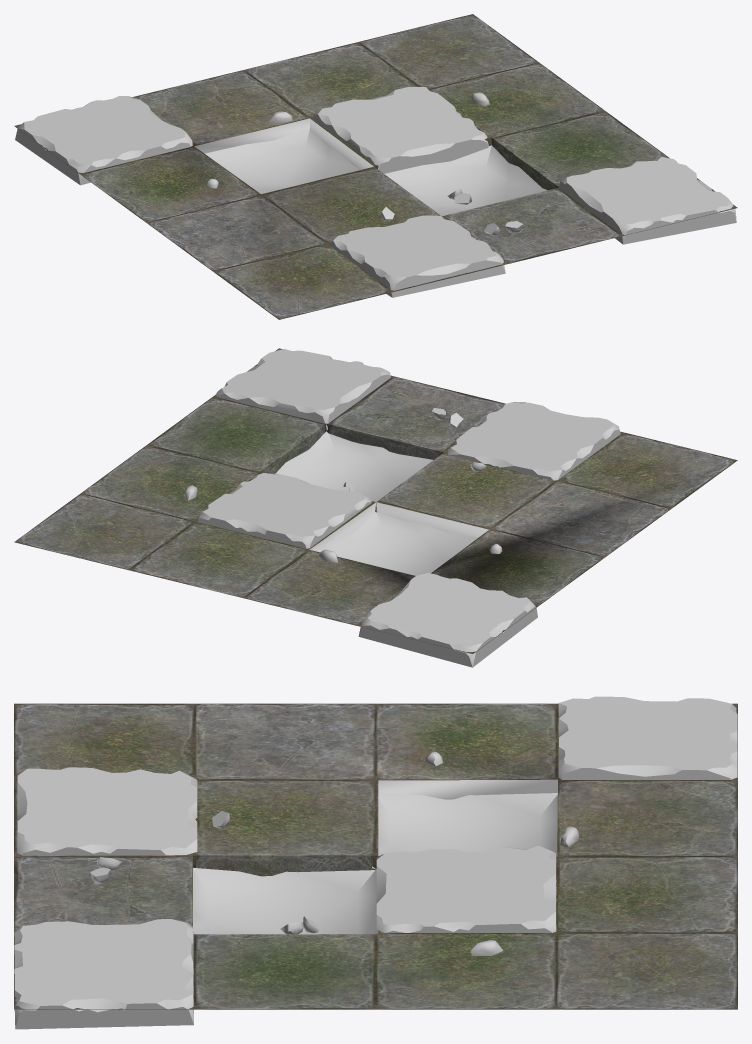
The model's file is Floor_Lvl3_9.fbx.
3 views of the same model, one above another, from view 1: azimuth 30°, elevation 25°; view 2: azimuth 150°, elevation 25°; view 3: azimuth 270°, elevation 25° (orthographic). The views are drawn at different scales.
Visible parts, largest first — view 1: StoneFloor.006; view 2: StoneFloor.006; view 3: StoneFloor.006.
Boxes of the visible parts, x1,y1,x2,y2 form: StoneFloor.006: (14, 14, 737, 319); StoneFloor.006: (14, 348, 737, 667); StoneFloor.006: (14, 696, 737, 1029).
Bounding box in the file's own units: 382 × 31.87 × 382.
